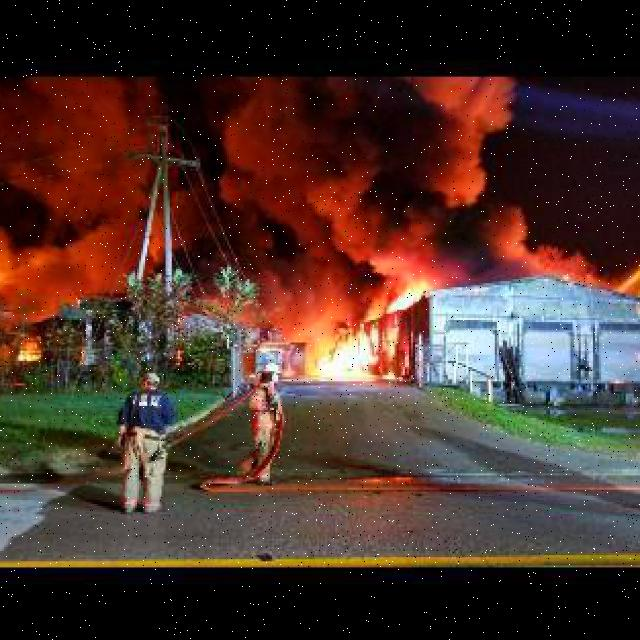fire: (300, 299, 382, 382), (372, 283, 432, 316)
smoke: (217, 77, 566, 281)
